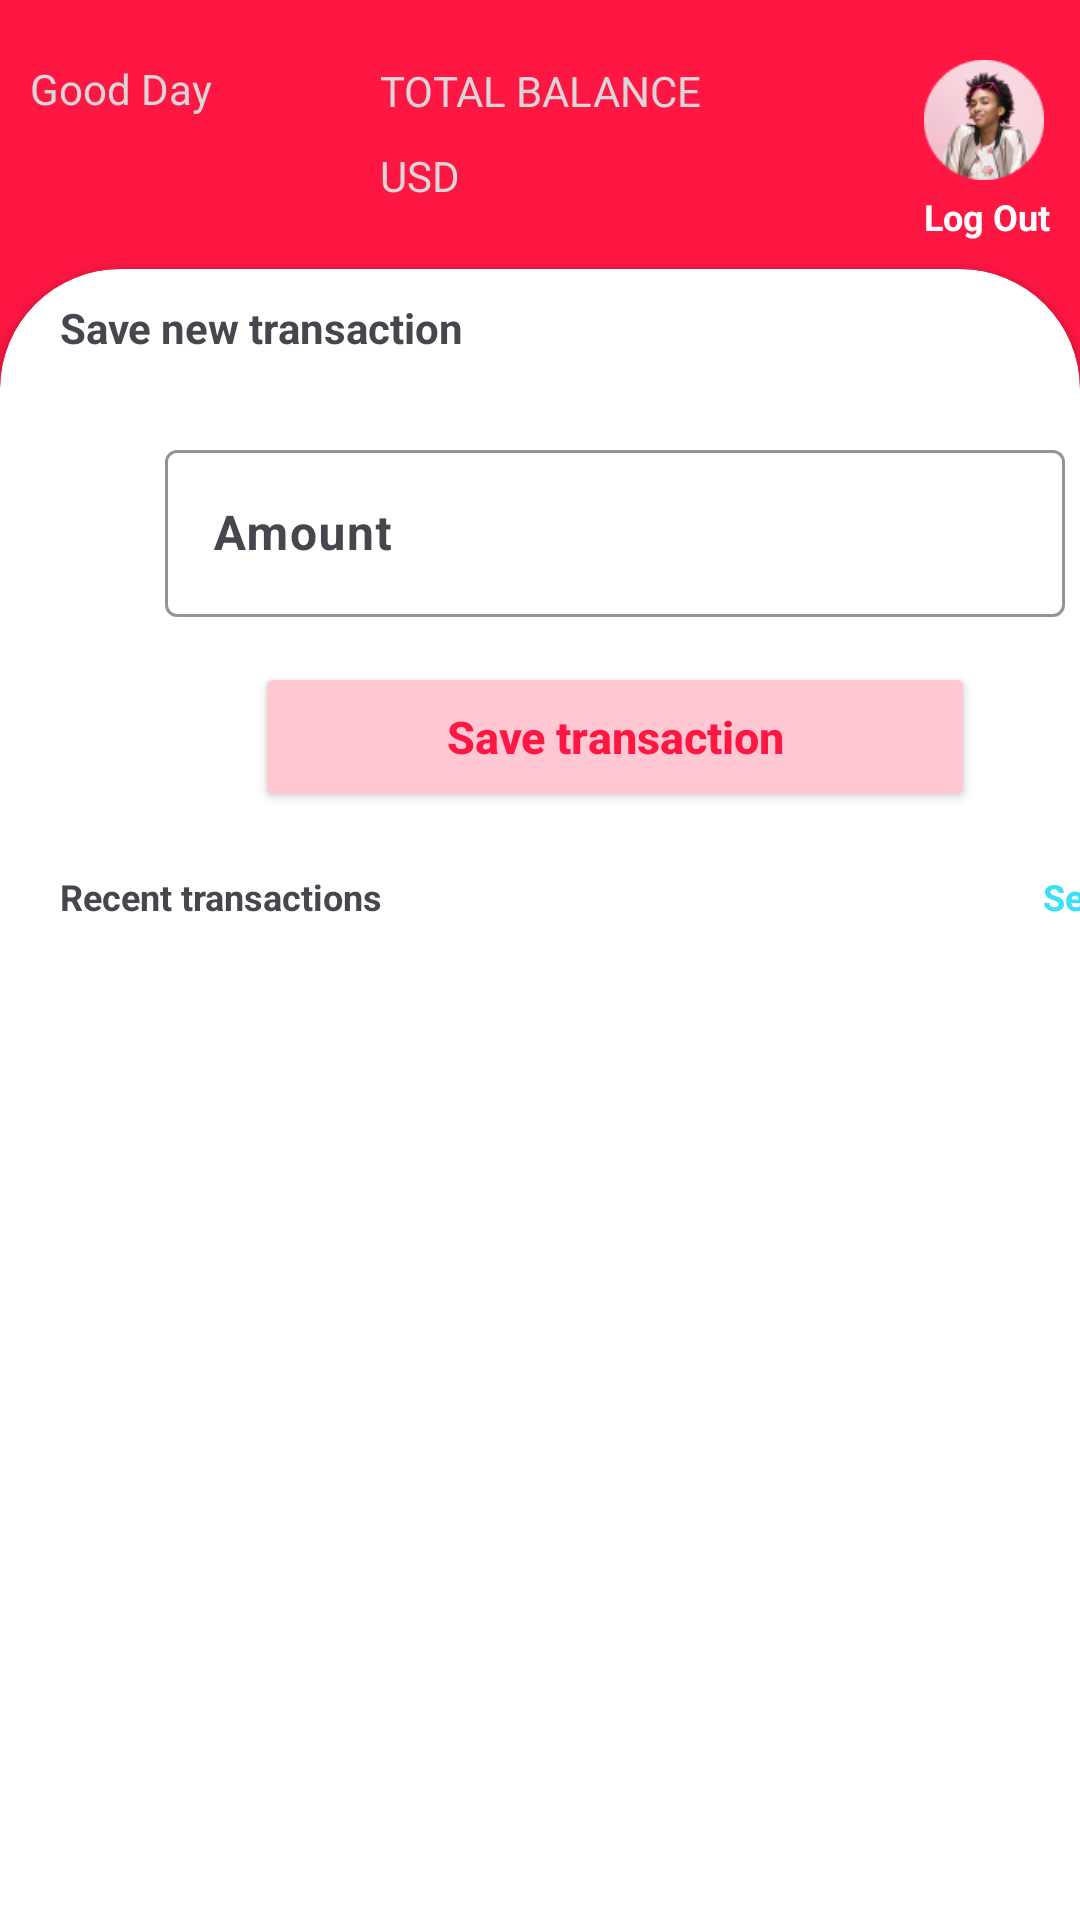

Screen size 1080*1920. Icon name, then its center in pixels as (x,y):
person picture: (984,120)
